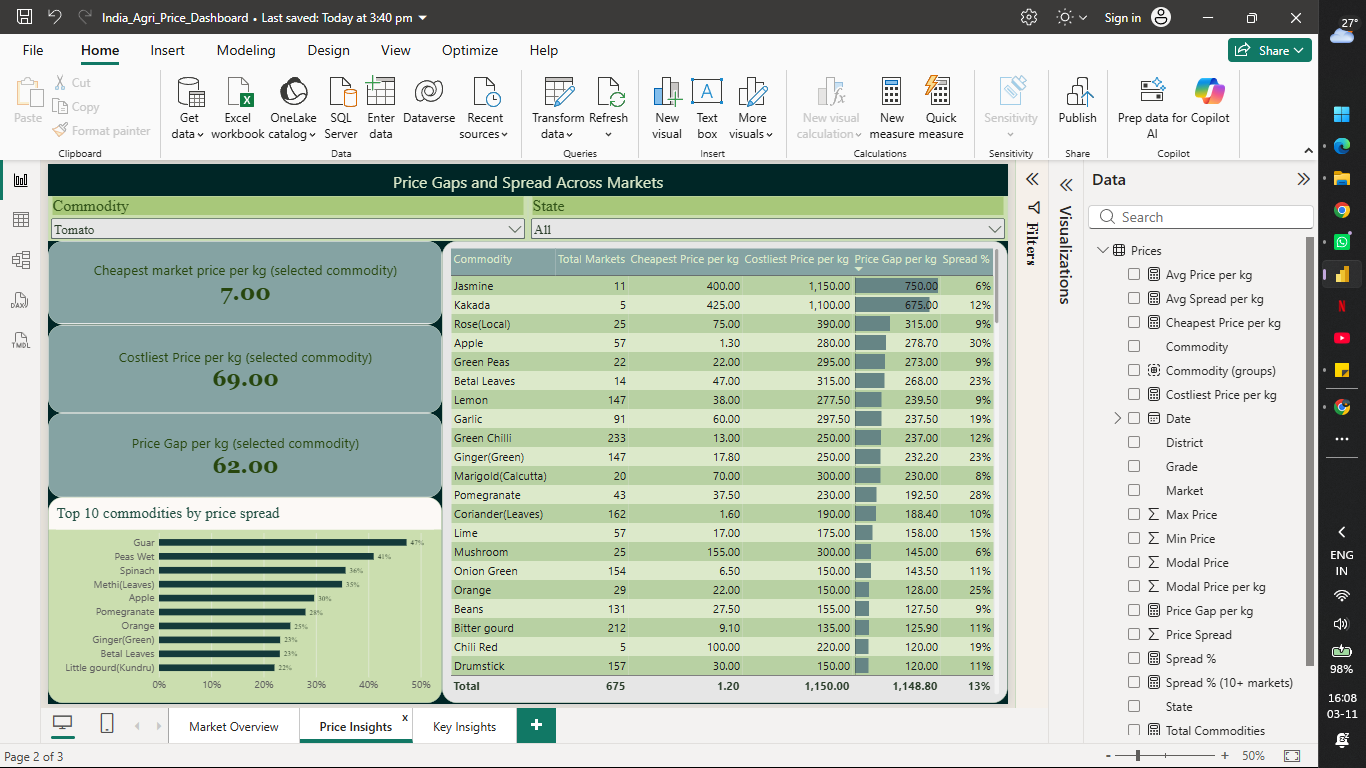

What the dashboard file says about the page in this screenshot:
{"tool":"powerbi","page":{"name":"Price Insights","canvas":[1920,1080],"ordinal":1},"visuals":[{"type":"textbox","box":[0,0,1920.9,69.8],"z":0},{"type":"slicer","title":"Markets selling this","fields":{"Values":["Prices.Commodity"]},"box":[0,64.3,959.5,90.5],"z":1000},{"type":"slicer","title":"States selling this","fields":{"Values":["Prices.State"]},"box":[959.5,64.3,959.5,90.5],"z":2000},{"type":"cardVisual","fields":{"Data":["Prices.Cheapest Price per kg"]},"box":[0,154.8,788.1,166.7],"z":3000},{"type":"cardVisual","fields":{"Data":["Prices.Costliest Price per kg"]},"box":[0,321.4,788.1,176.2],"z":4000},{"type":"cardVisual","fields":{"Data":["Prices.Price Gap per kg"]},"box":[0,497.6,788.1,169],"z":5000},{"type":"clusteredBarChart","title":"Top 10 commodities by price spread","fields":{"Category":["Prices.Commodity"],"Y":["Prices.Spread % (10+ markets)"]},"box":[0,666.7,788.1,411.9],"z":6000},{"type":"tableEx","fields":{"Values":["Prices.Commodity","Prices.Total Markets","Prices.Cheapest Price per kg","Prices.Costliest Price per kg","Prices.Price Gap per kg","Prices.Spread %"]},"box":[788.1,154.8,1131,923.8],"z":7000}]}

Visuals, with their boxes on the page's 1920x1080 design canvas (x1, y1, x2, y2). These are canvas units, not pixel positions in the 1366x768 screenshot, which may show the page scaled, cropped or inside an application window:
textbox: bbox=(0, 0, 1921, 70)
"Markets selling this" slicer: bbox=(0, 64, 960, 155)
"States selling this" slicer: bbox=(960, 64, 1919, 155)
cardVisual - Prices.Cheapest Price per kg: bbox=(0, 155, 788, 322)
cardVisual - Prices.Costliest Price per kg: bbox=(0, 321, 788, 498)
cardVisual - Prices.Price Gap per kg: bbox=(0, 498, 788, 667)
"Top 10 commodities by price spread" clusteredBarChart: bbox=(0, 667, 788, 1079)
tableEx - Prices.Commodity x Prices.Total Markets: bbox=(788, 155, 1919, 1079)
